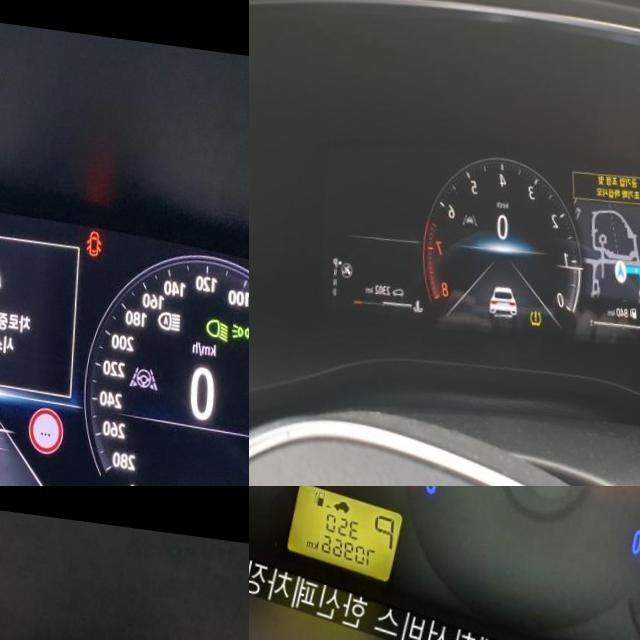Doors: (89, 217, 105, 244)
Low beam: (208, 300, 232, 326)
SideLamp: (234, 305, 249, 324)
